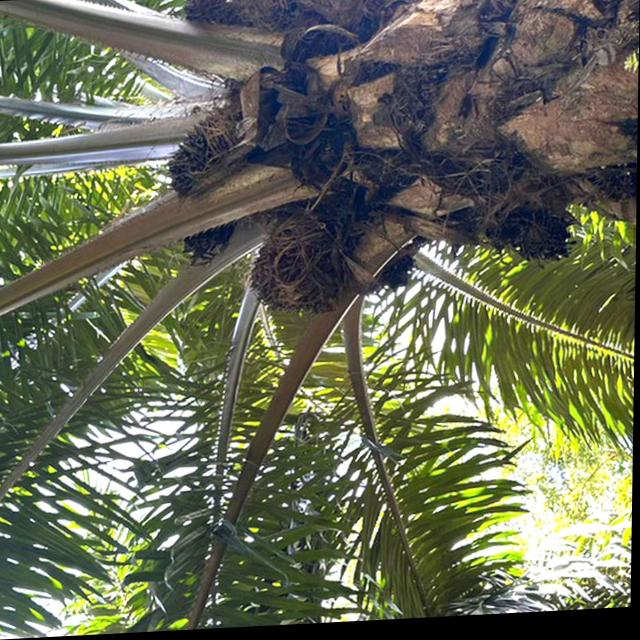ripe: (242, 206, 353, 327)
